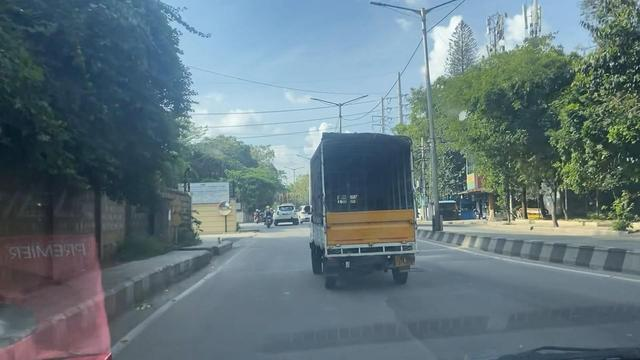HMV: (296, 121, 429, 302)
